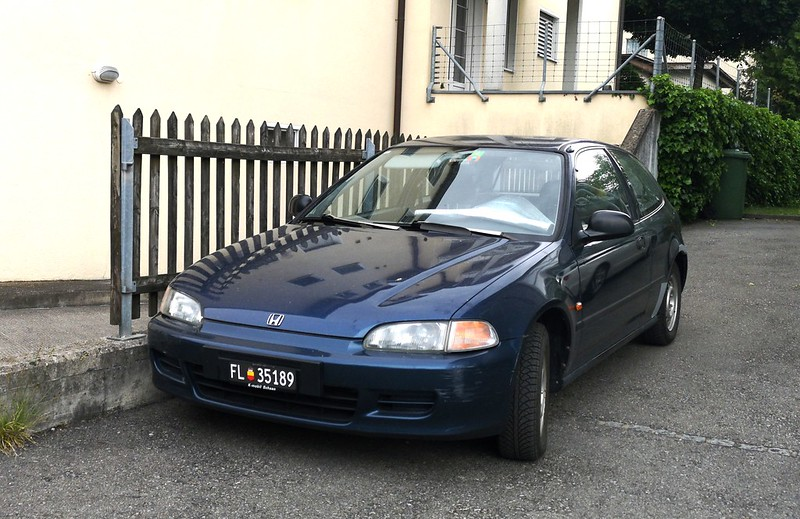car: (143, 124, 699, 464)
